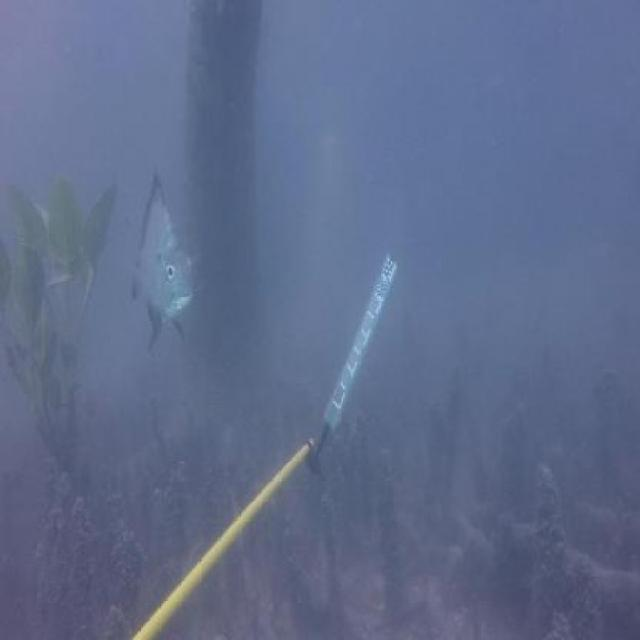acanthopagrus_palmaris: (125, 163, 201, 359)
